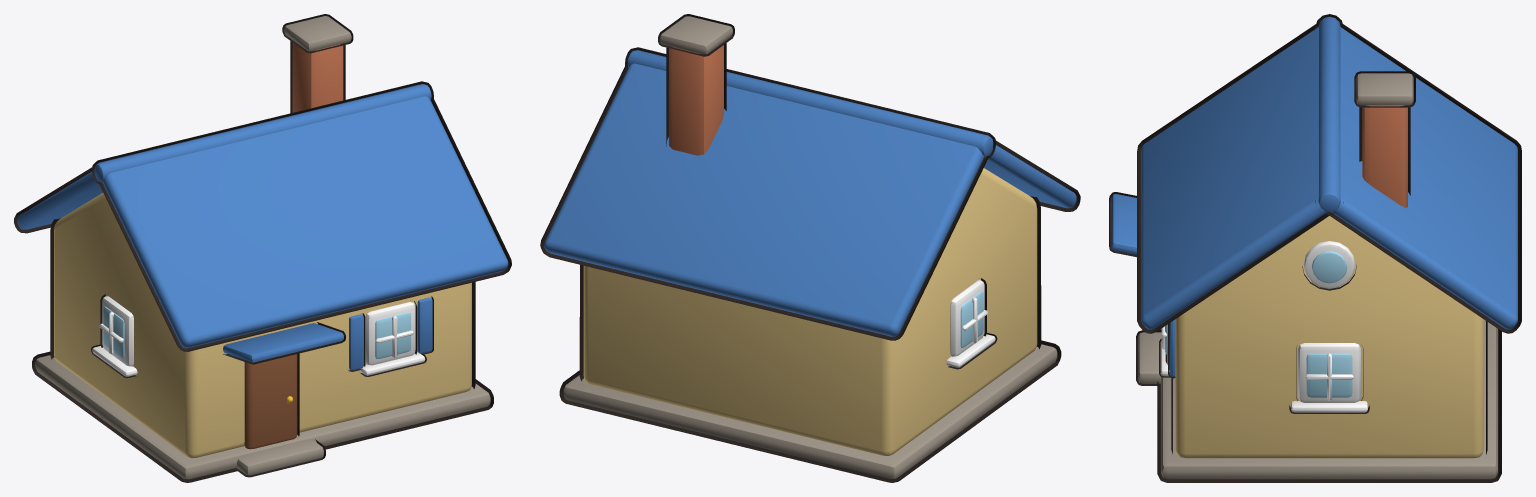
The model's file is House_Blue.fbx.
The picture shows the model from 3 angles, left to right: view 1: azimuth 30°, elevation 25°; view 2: azimuth 150°, elevation 25°; view 3: azimuth 270°, elevation 25°; orthographic projection. The views are drawn at different scales.
Visible parts, largest first — view 1: BL_House_Blue_RoofBlue, BL_House_Blue_WallYellow, BL_House_Blue_StoneDark, BL_House_Blue_Outline, BL_House_Blue_Door, BL_House_Blue_Frame, BL_House_Blue_WallBrick, BL_House_Blue_Window, BL_House_Blue_AwningBlue; view 2: BL_House_Blue_RoofBlue, BL_House_Blue_WallYellow, BL_House_Blue_StoneDark, BL_House_Blue_Outline, BL_House_Blue_WallBrick, BL_House_Blue_Frame, BL_House_Blue_Window; view 3: BL_House_Blue_RoofBlue, BL_House_Blue_WallYellow, BL_House_Blue_StoneDark, BL_House_Blue_Outline, BL_House_Blue_Frame, BL_House_Blue_WallBrick, BL_House_Blue_Window.
Boxes of the visible parts, <box> form: BL_House_Blue_RoofBlue: <box>17,84,508,362</box>; BL_House_Blue_WallYellow: <box>54,193,471,458</box>; BL_House_Blue_StoneDark: <box>35,16,490,479</box>; BL_House_Blue_Outline: <box>14,14,511,482</box>; BL_House_Blue_Door: <box>244,354,297,449</box>; BL_House_Blue_Frame: <box>92,296,425,376</box>; BL_House_Blue_WallBrick: <box>292,43,343,112</box>; BL_House_Blue_Window: <box>103,306,410,358</box>; BL_House_Blue_AwningBlue: <box>349,297,432,370</box>; BL_House_Blue_RoofBlue: <box>544,50,1076,336</box>; BL_House_Blue_WallYellow: <box>583,168,1037,455</box>; BL_House_Blue_StoneDark: <box>563,16,1057,478</box>; BL_House_Blue_Outline: <box>540,14,1080,482</box>; BL_House_Blue_WallBrick: <box>669,45,723,155</box>; BL_House_Blue_Frame: <box>946,280,995,367</box>; BL_House_Blue_Window: <box>960,291,983,347</box>; BL_House_Blue_RoofBlue: <box>1111,16,1517,329</box>; BL_House_Blue_WallYellow: <box>1175,216,1483,458</box>; BL_House_Blue_StoneDark: <box>1138,73,1497,479</box>; BL_House_Blue_Outline: <box>1109,14,1521,482</box>; BL_House_Blue_Frame: <box>1160,241,1367,412</box>; BL_House_Blue_WallBrick: <box>1362,105,1407,207</box>; BL_House_Blue_Window: <box>1165,251,1352,397</box>.
Size of the model in its own units: 7.5 by 7.03 by 7.23.
